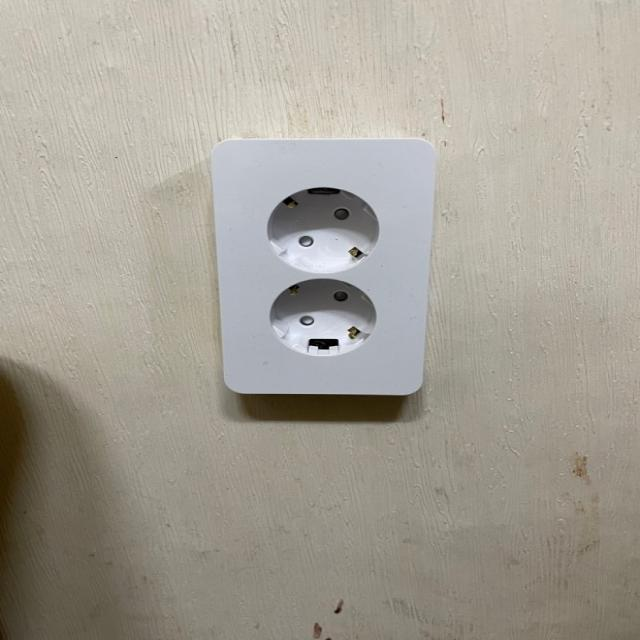typeb: (174, 76, 476, 466)
